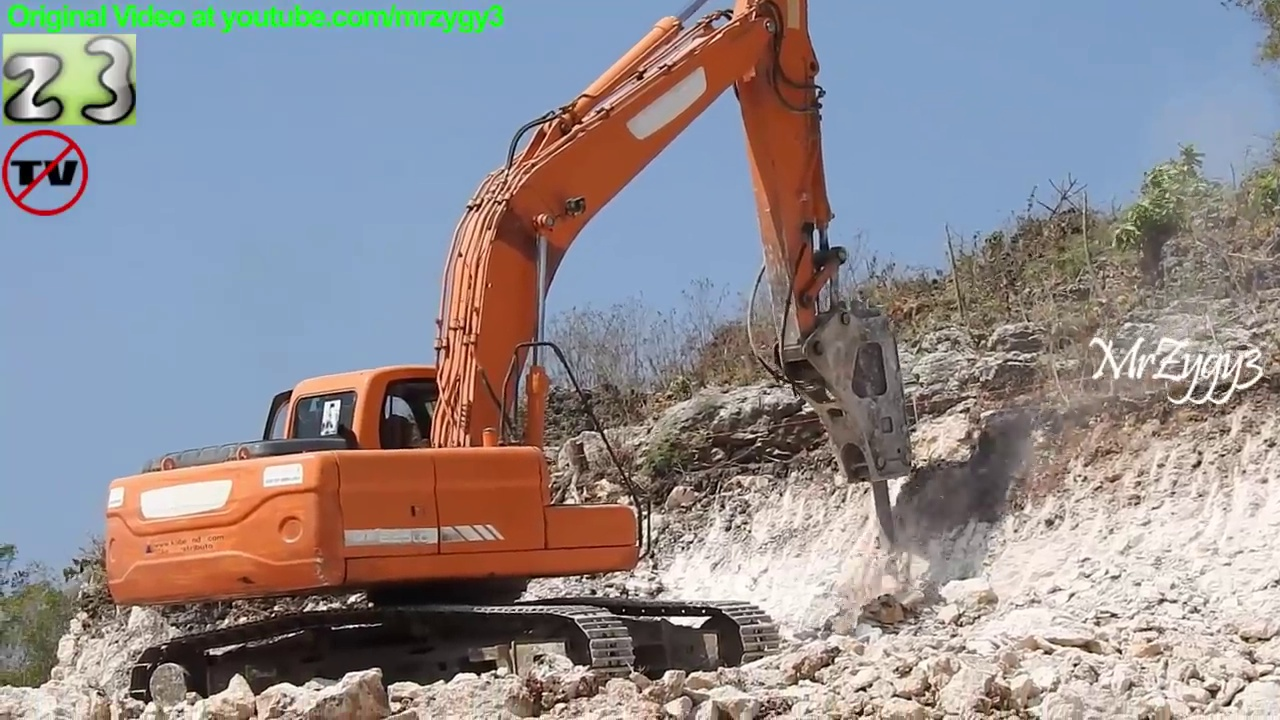excavator breaker: (99, 1, 924, 705)
